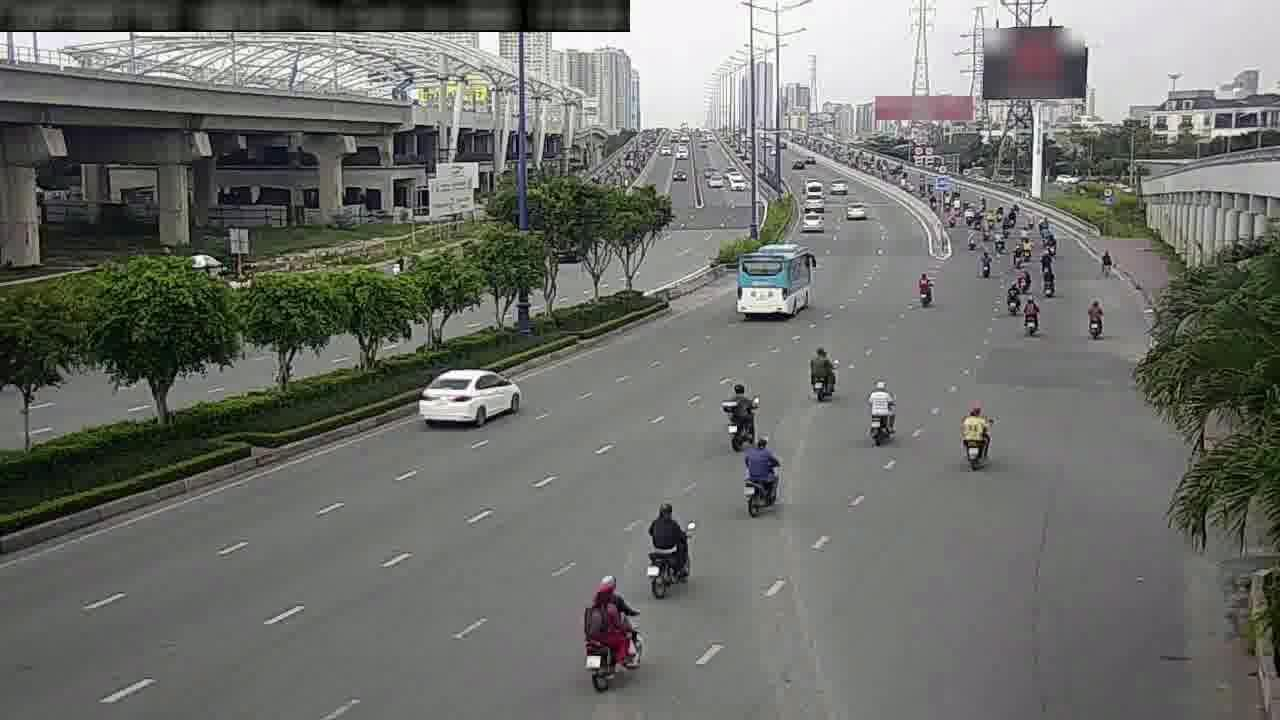14: (736, 239, 811, 312)
container: (419, 358, 525, 428), (797, 201, 827, 231)
motorbike: (573, 579, 642, 688), (636, 498, 694, 592), (735, 431, 786, 516), (716, 379, 759, 448), (860, 376, 900, 447), (953, 399, 993, 467), (803, 339, 840, 404), (1080, 294, 1106, 339), (910, 266, 936, 307), (1018, 295, 1041, 336), (999, 277, 1021, 313), (973, 247, 996, 280), (1094, 246, 1114, 277), (1039, 267, 1057, 300), (1012, 259, 1031, 290), (1006, 239, 1024, 267)
